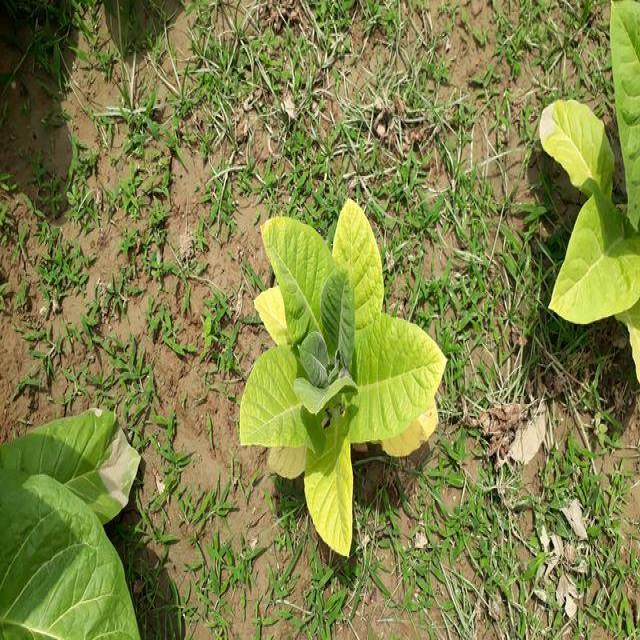crop: (234, 207, 442, 560), (534, 0, 640, 380), (8, 423, 147, 640)
